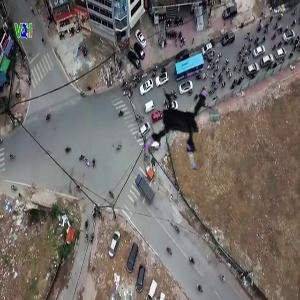drone: (133, 74, 234, 175)
